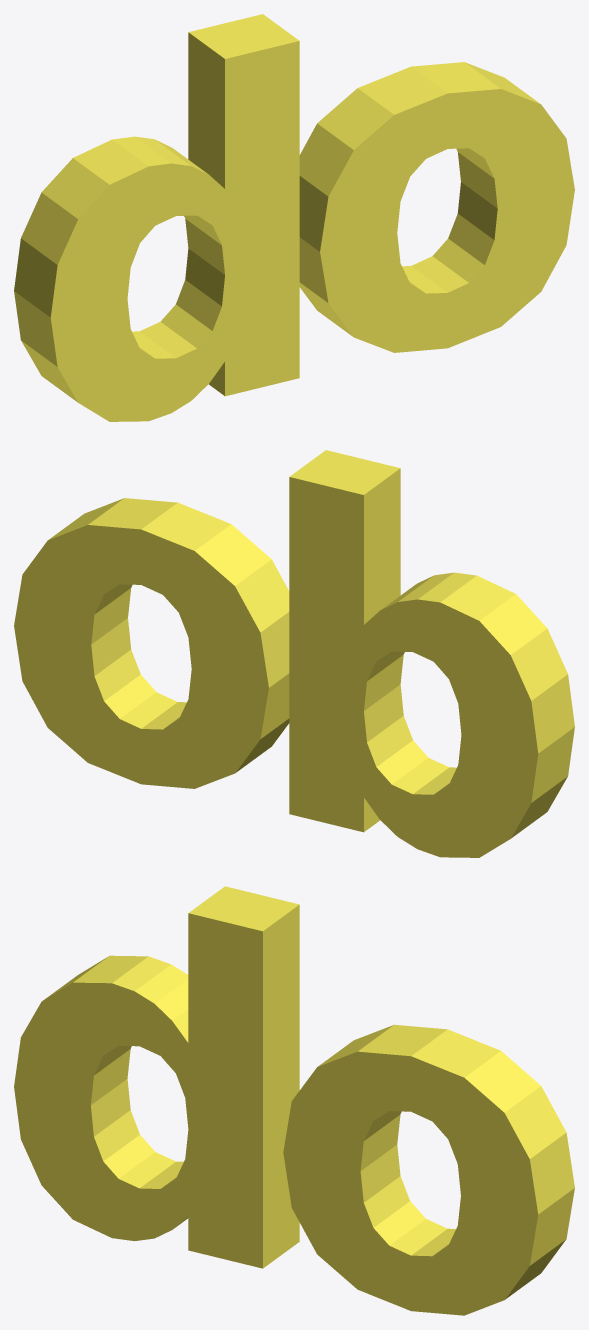
File: suku_kecil_do.glb
The picture shows the model from 3 angles, top to bottom: view 1: azimuth 30°, elevation 25°; view 2: azimuth 150°, elevation 25°; view 3: azimuth 330°, elevation 25°; orthographic projection.
Visible parts, largest first — view 1: geometry_0; view 2: geometry_0; view 3: geometry_0.
Boxes of the visible parts, x1,y1,x2,y2 form: geometry_0: (14, 14, 574, 421); geometry_0: (14, 450, 574, 857); geometry_0: (14, 886, 574, 1315).
Size of the model in its own units: 12.36 by 7.74 by 1.5.
